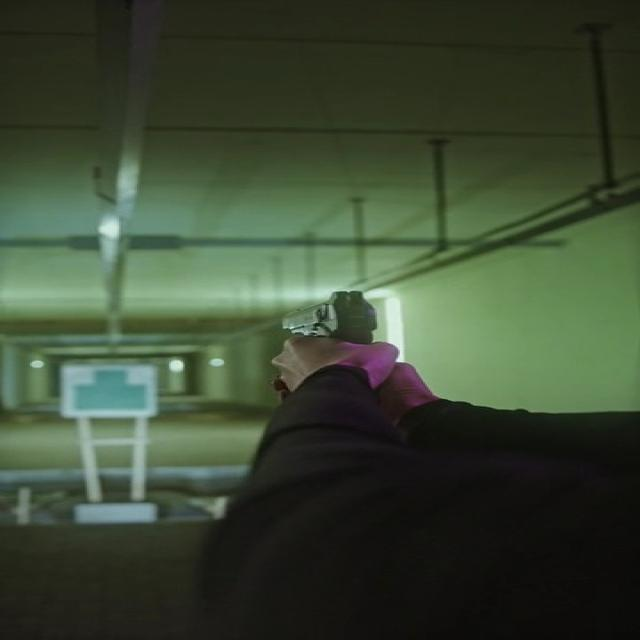Gun_Holder: (218, 284, 474, 427)
